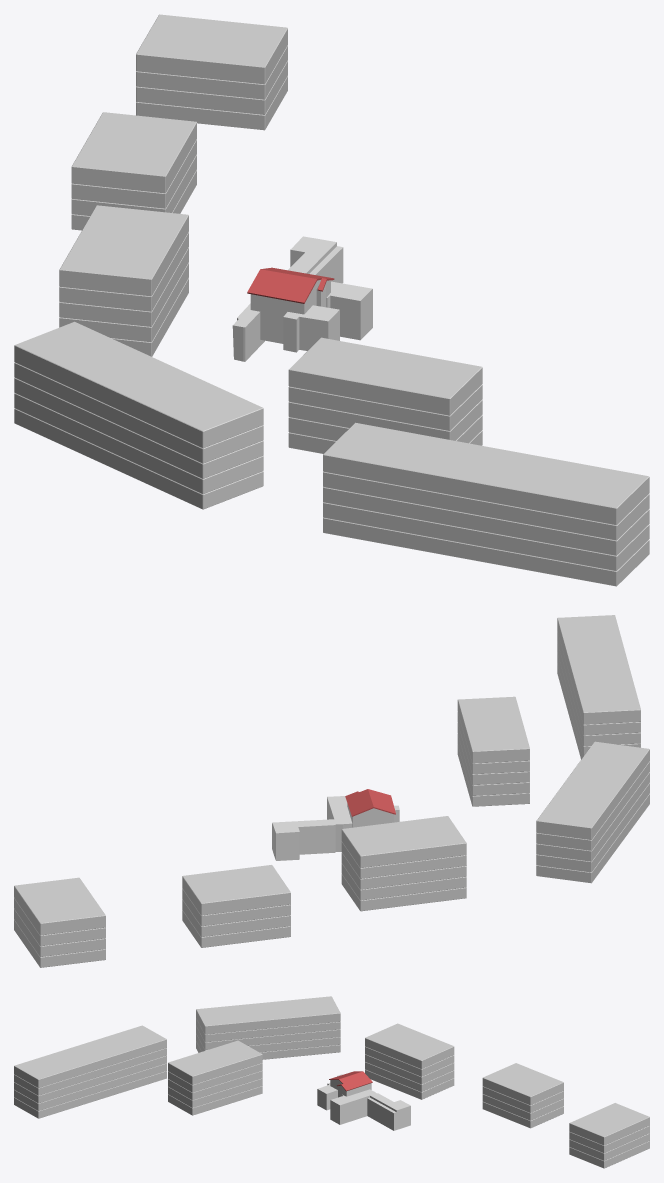
The model's file is 04_altdorf_model_alternativevariante.fbx.
3 renders of one model, top to bottom at view 1: azimuth 30°, elevation 25°; view 2: azimuth 150°, elevation 25°; view 3: azimuth 270°, elevation 25°, orthographic. The views are drawn at different scales.
Parts seen in each view (by area): view 1: Alternativvariante ABCD, Alternativvariante E1E2, Alternativvariante Voisin; view 2: Alternativvariante ABCD, Alternativvariante E1E2, Alternativvariante Voisin; view 3: Alternativvariante ABCD, Alternativvariante E1E2, Alternativvariante Voisin.
Part boxes in pixels (x1=…): Alternativvariante ABCD: x1=14, y1=205, x2=649, y2=586; Alternativvariante E1E2: x1=71, y1=14, x2=287, y2=230; Alternativvariante Voisin: x1=232, y1=236, x2=372, y2=361; Alternativvariante ABCD: x1=341, y1=615, x2=649, y2=911; Alternativvariante E1E2: x1=14, y1=865, x2=290, y2=967; Alternativvariante Voisin: x1=272, y1=789, x2=399, y2=860; Alternativvariante ABCD: x1=14, y1=996, x2=454, y2=1118; Alternativvariante E1E2: x1=482, y1=1063, x2=649, y2=1168; Alternativvariante Voisin: x1=317, y1=1071, x2=410, y2=1130.
Bounding box in the file's own units: 22589 × 11201 × 1540.
